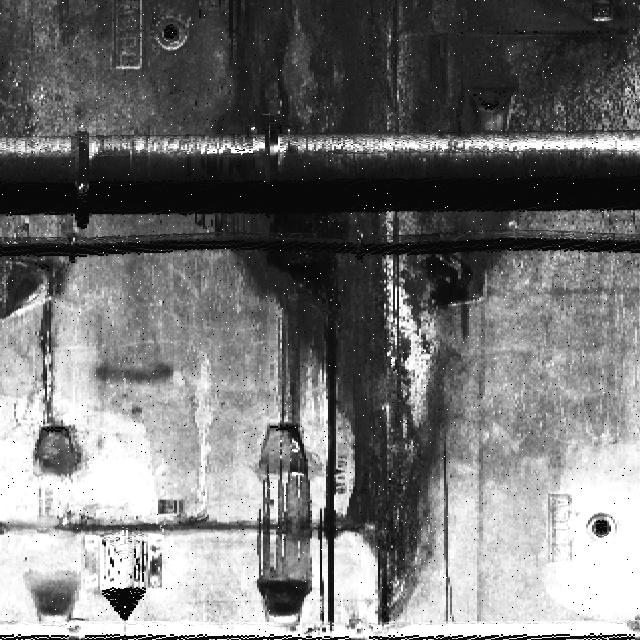leakage: (195, 210, 522, 631), (195, 1, 633, 134), (1, 250, 76, 435)
